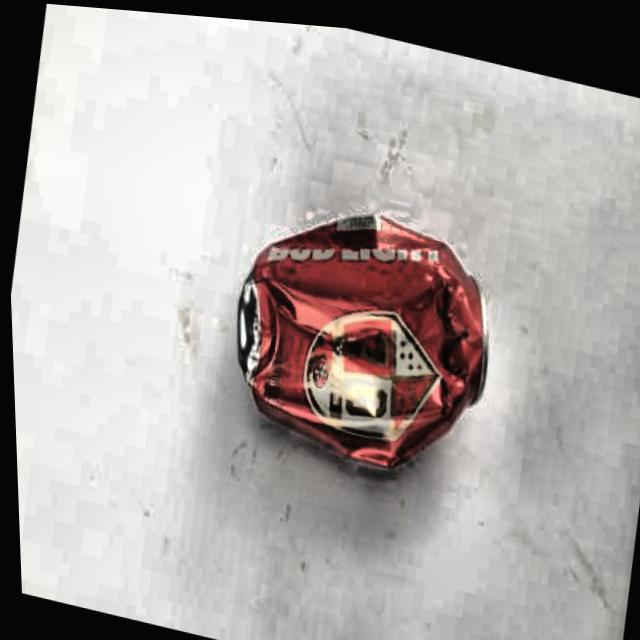Cans: (215, 186, 505, 477)
